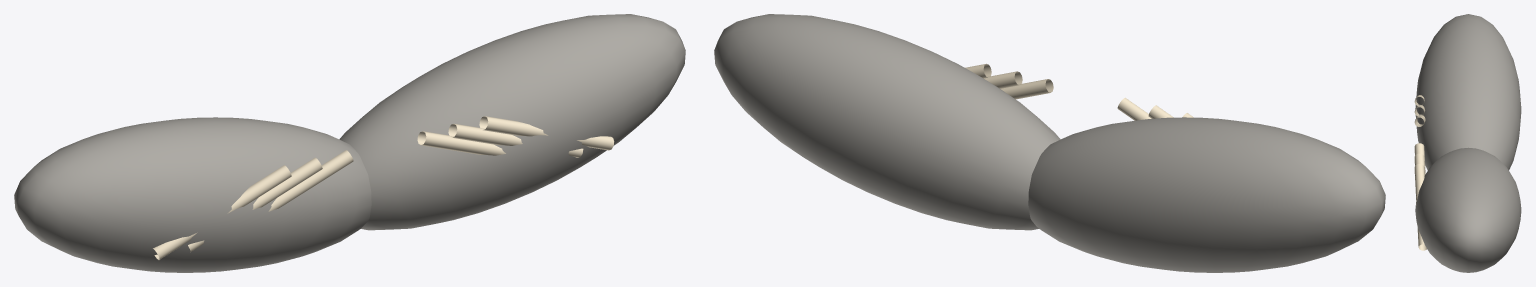
The model's file is YusufMoustache.fbx.
3 views of the same model, side by side, from view 1: azimuth 30°, elevation 25°; view 2: azimuth 150°, elevation 25°; view 3: azimuth 270°, elevation 25° (orthographic). The views are drawn at different scales.
Parts seen in each view (by area): view 1: SoftSilverMoustache, SoftSilverMoustache.001, SmallHairGroove.005, SmallHairGroove.002, SmallHairGroove, SmallHairGroove.003, SmallHairGroove.001, SmallHairGroove.004; view 2: SoftSilverMoustache, SoftSilverMoustache.001, SmallHairGroove, SmallHairGroove.001, SmallHairGroove.003; view 3: SoftSilverMoustache.001, SoftSilverMoustache, SmallHairGroove.002, SmallHairGroove, SmallHairGroove.001, SmallHairGroove.003.
Part boxes in pixels (x1,y1,x2,y2): SoftSilverMoustache: [339, 14, 685, 230]; SoftSilverMoustache.001: [14, 117, 371, 272]; SmallHairGroove.005: [153, 165, 291, 259]; SmallHairGroove.002: [479, 116, 614, 150]; SmallHairGroove: [417, 131, 505, 155]; SmallHairGroove.003: [268, 150, 353, 211]; SmallHairGroove.001: [448, 123, 583, 157]; SmallHairGroove.004: [188, 157, 322, 252]; SoftSilverMoustache: [714, 14, 1060, 230]; SoftSilverMoustache.001: [1028, 117, 1385, 272]; SmallHairGroove: [1001, 79, 1053, 99]; SmallHairGroove.001: [984, 71, 1022, 88]; SmallHairGroove.003: [1117, 97, 1151, 120]; SoftSilverMoustache.001: [1415, 14, 1521, 170]; SoftSilverMoustache: [1415, 147, 1521, 272]; SmallHairGroove.002: [1414, 164, 1426, 250]; SmallHairGroove: [1414, 143, 1425, 174]; SmallHairGroove.001: [1414, 153, 1425, 175]; SmallHairGroove.003: [1414, 114, 1425, 126].
Bounding box in the file's own units: 12.87 × 2.89 × 2.62.
